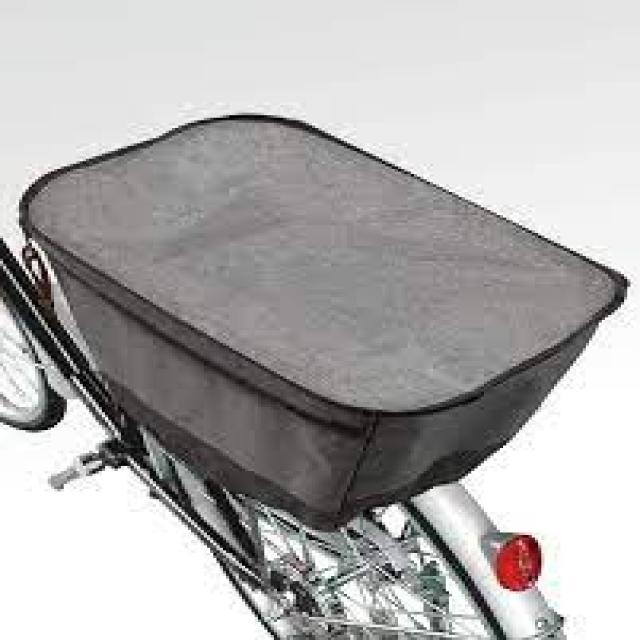basket: (20, 114, 624, 524)
